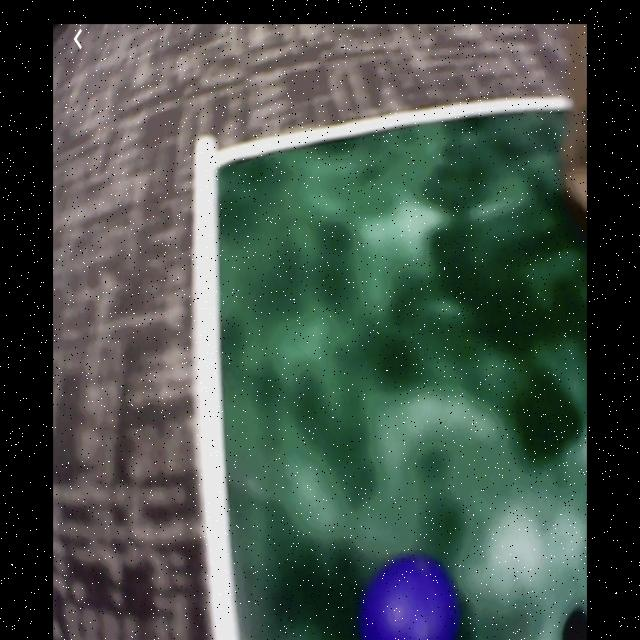ball: (360, 555, 459, 640)
